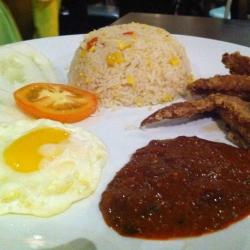omelette: (2, 117, 106, 223)
rice: (70, 24, 193, 111)
